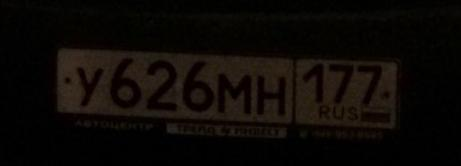license-plateSW: (56, 47, 402, 127)
